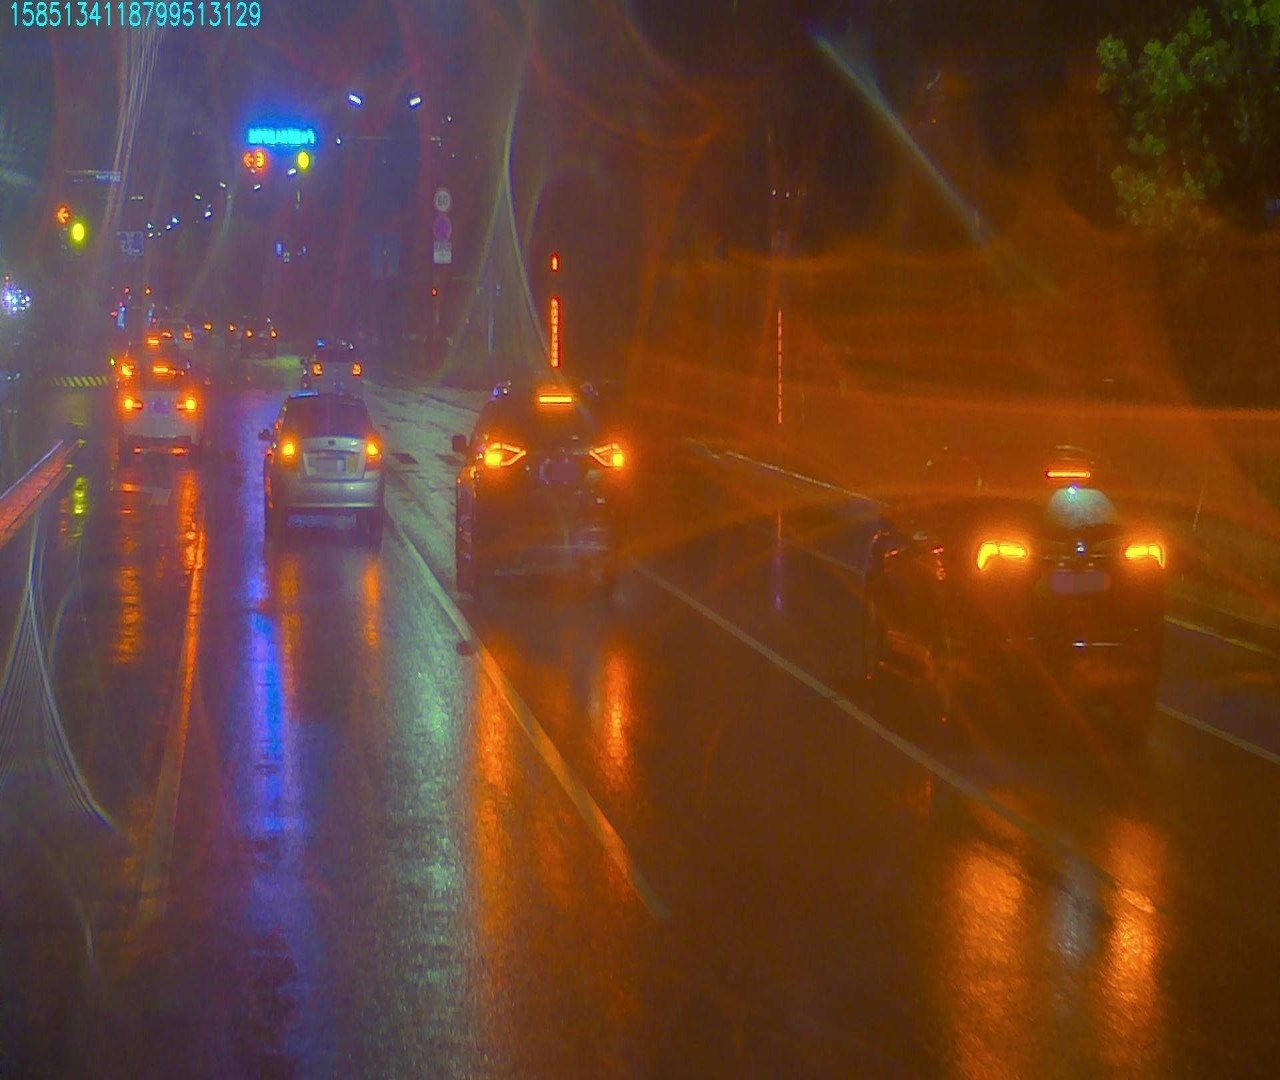red: (244, 151, 263, 170), (56, 204, 70, 222)
yellow: (69, 214, 88, 247), (290, 154, 312, 172)
